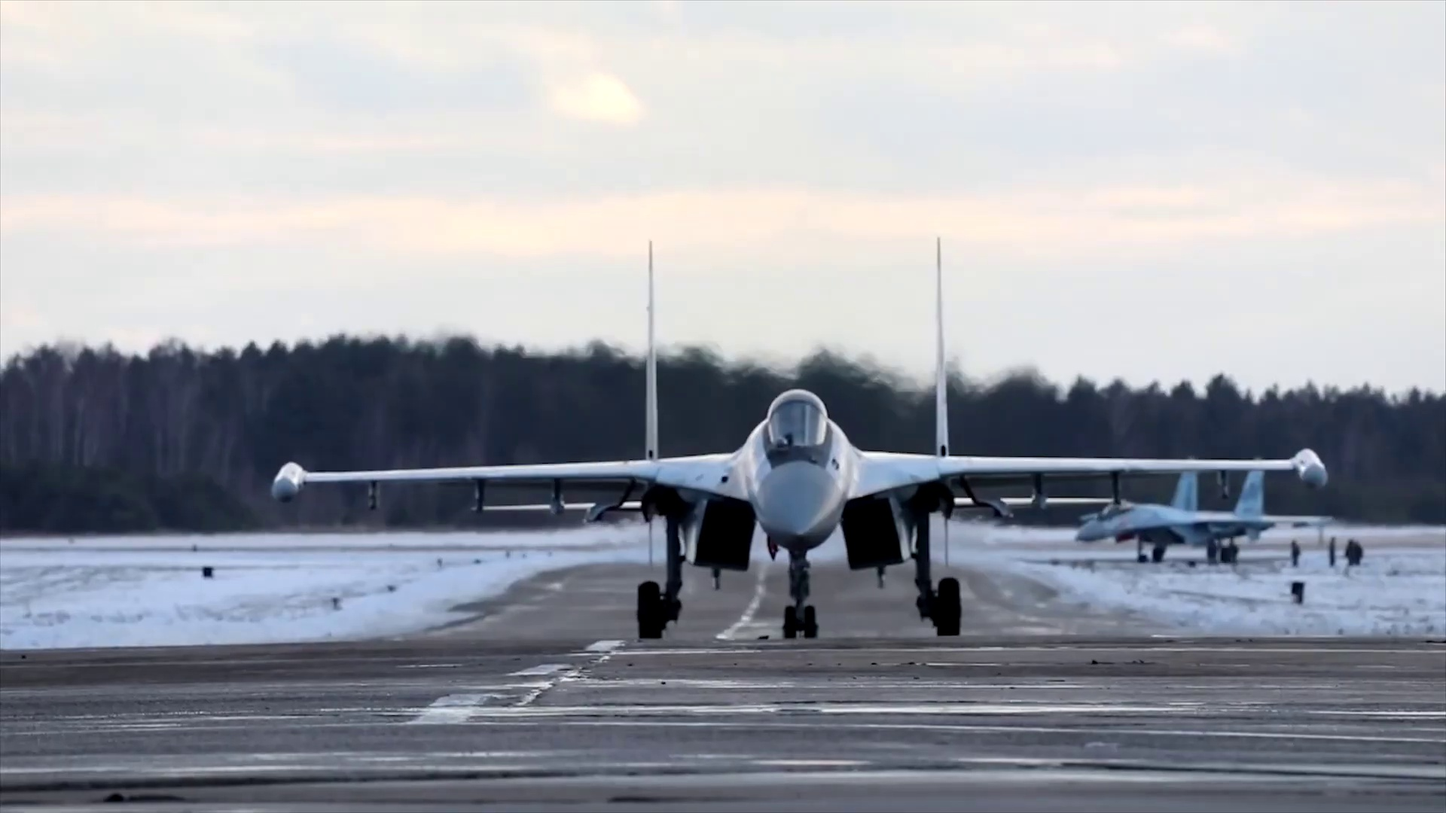Su35: (274, 244, 1329, 642), (1072, 456, 1332, 566)
